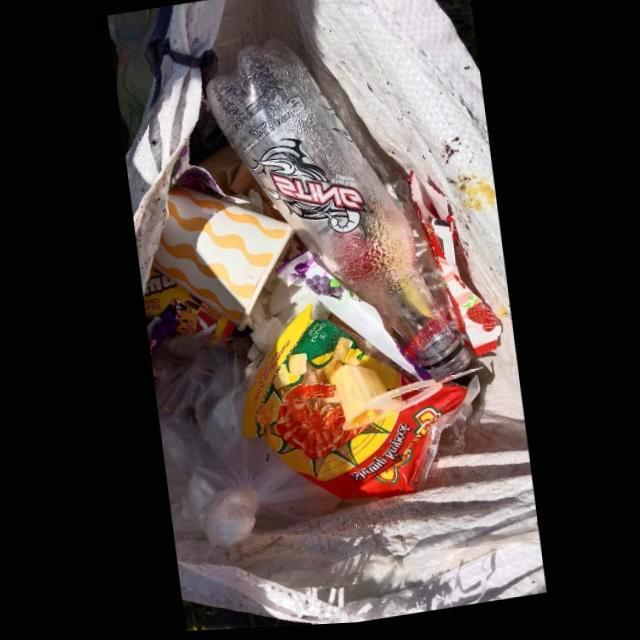cardboard: (152, 188, 292, 334)
food_wrapper: (240, 304, 480, 505), (268, 273, 422, 385), (410, 175, 502, 362)
glass_bottle: (206, 42, 473, 386)
plastic_bag: (154, 343, 330, 547)
